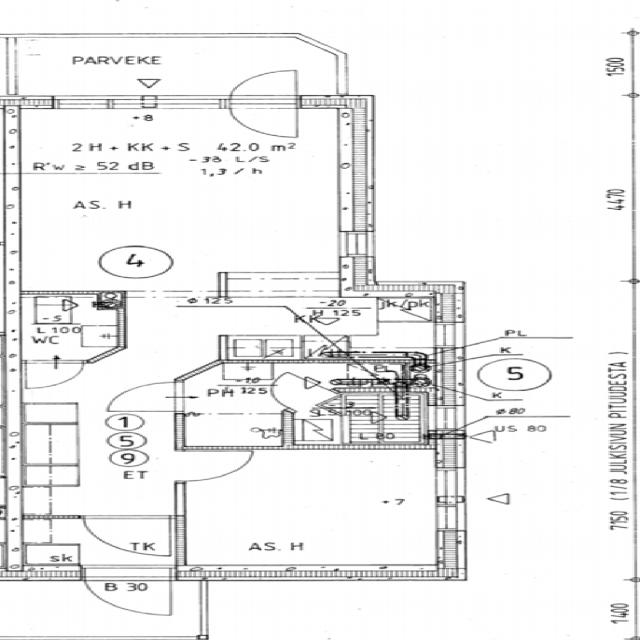door: (85, 566, 171, 618), (83, 516, 170, 556), (248, 373, 337, 412), (230, 95, 296, 138), (230, 66, 296, 108), (174, 451, 253, 481), (109, 382, 184, 412), (26, 360, 83, 389)
